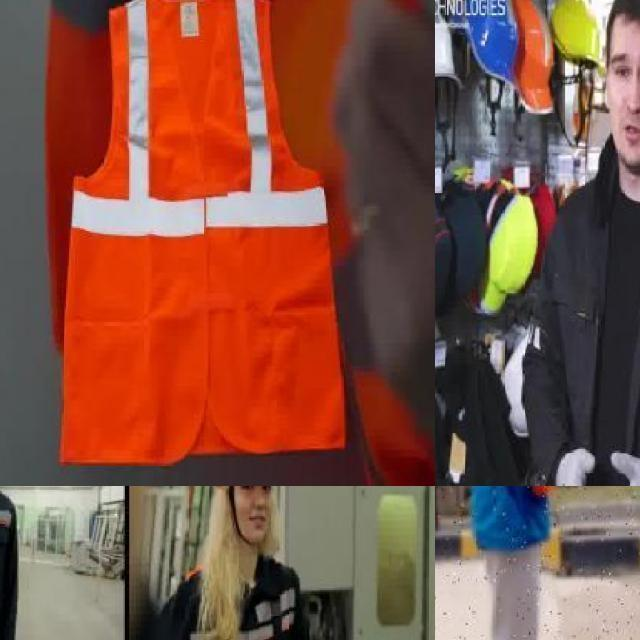apron: (556, 445, 596, 486)
